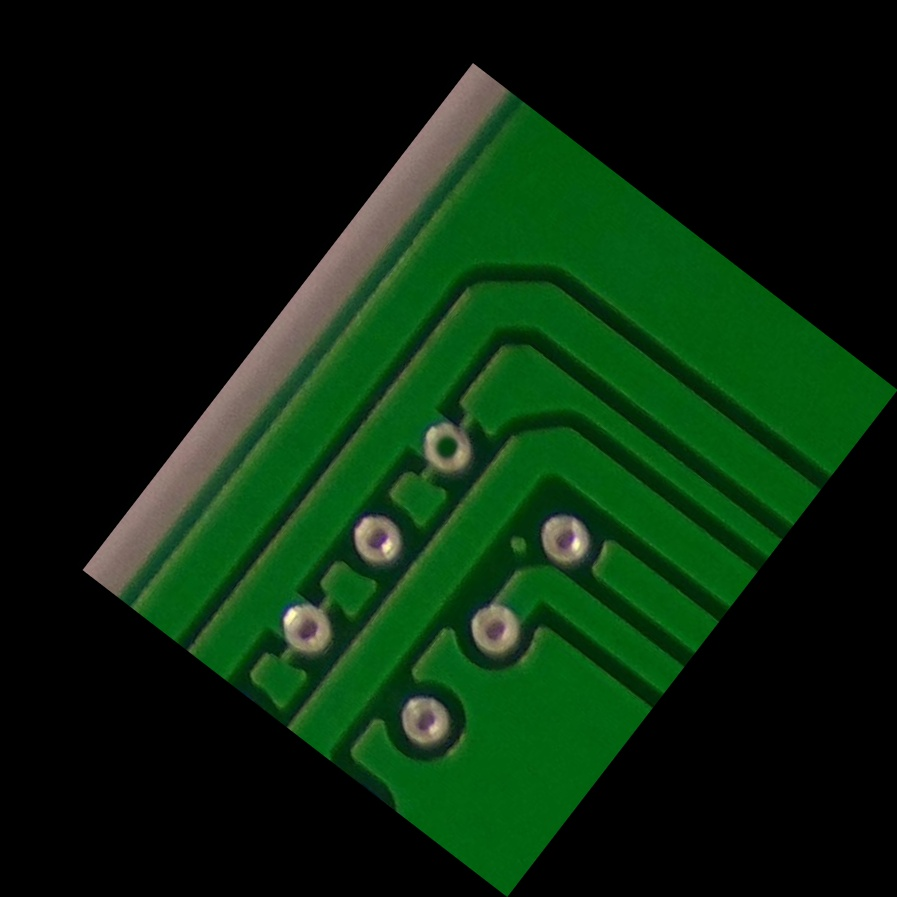missing_hole: (396, 397, 501, 501)
